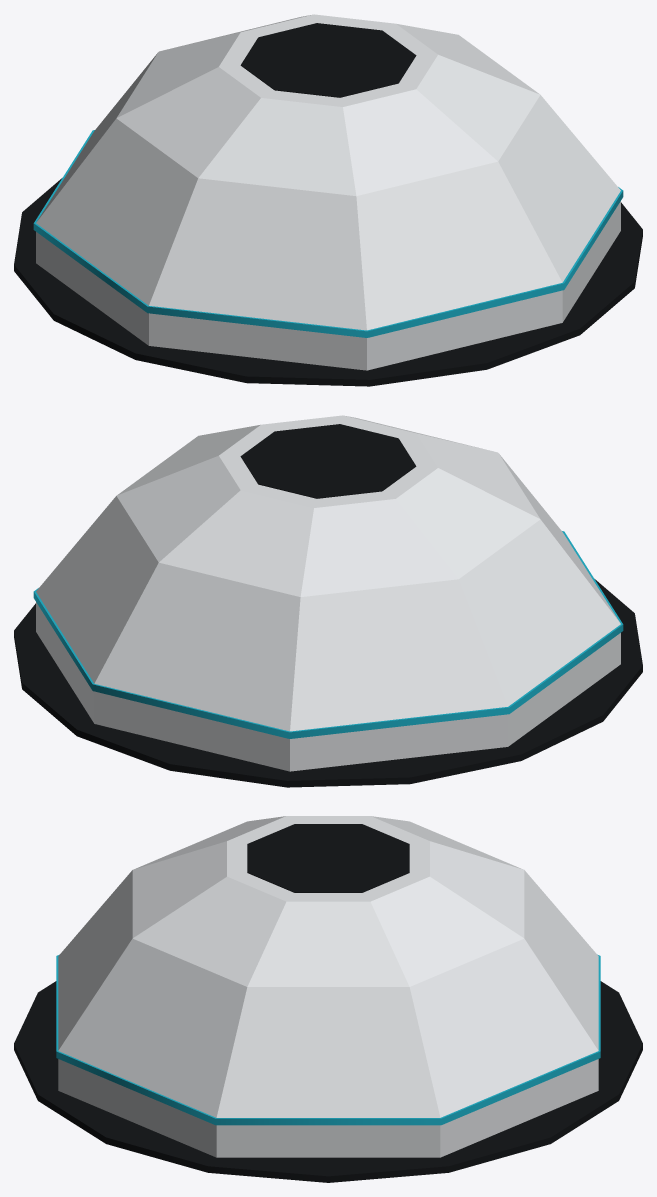
File: c3_feeder.obj
The picture shows the model from 3 angles, top to bottom: view 1: azimuth 30°, elevation 25°; view 2: azimuth 150°, elevation 25°; view 3: azimuth 270°, elevation 25°; orthographic projection.
Parts seen in each view (by area): view 1: c3_feeder; view 2: c3_feeder; view 3: c3_feeder.
Boxes of the visible parts, x1=… form: c3_feeder: x1=14, y1=14, x2=642, y2=386; c3_feeder: x1=14, y1=415, x2=642, y2=787; c3_feeder: x1=14, y1=816, x2=642, y2=1182.
Size of the model in its own units: 1.72 by 0.579 by 1.72.
